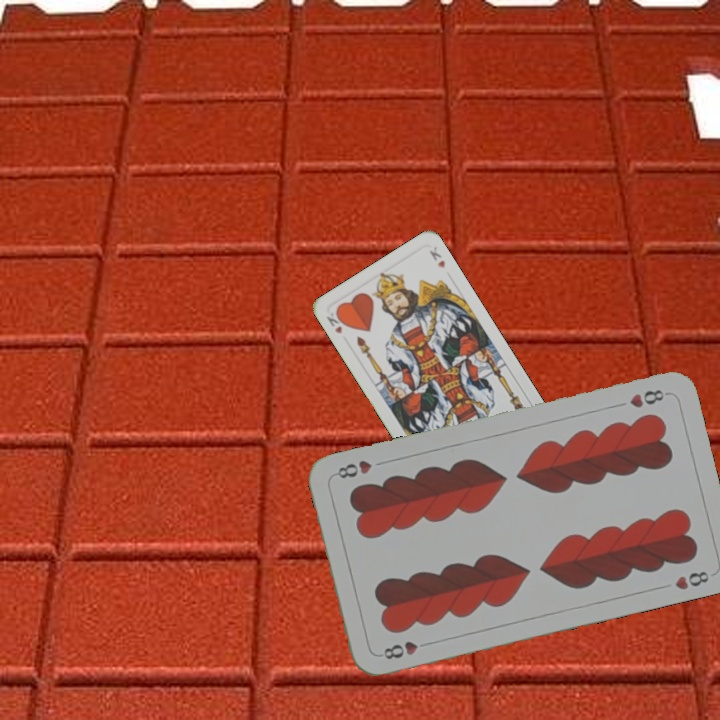H8: (379, 637, 434, 662), (625, 385, 671, 411)
HK: (322, 307, 349, 337)
